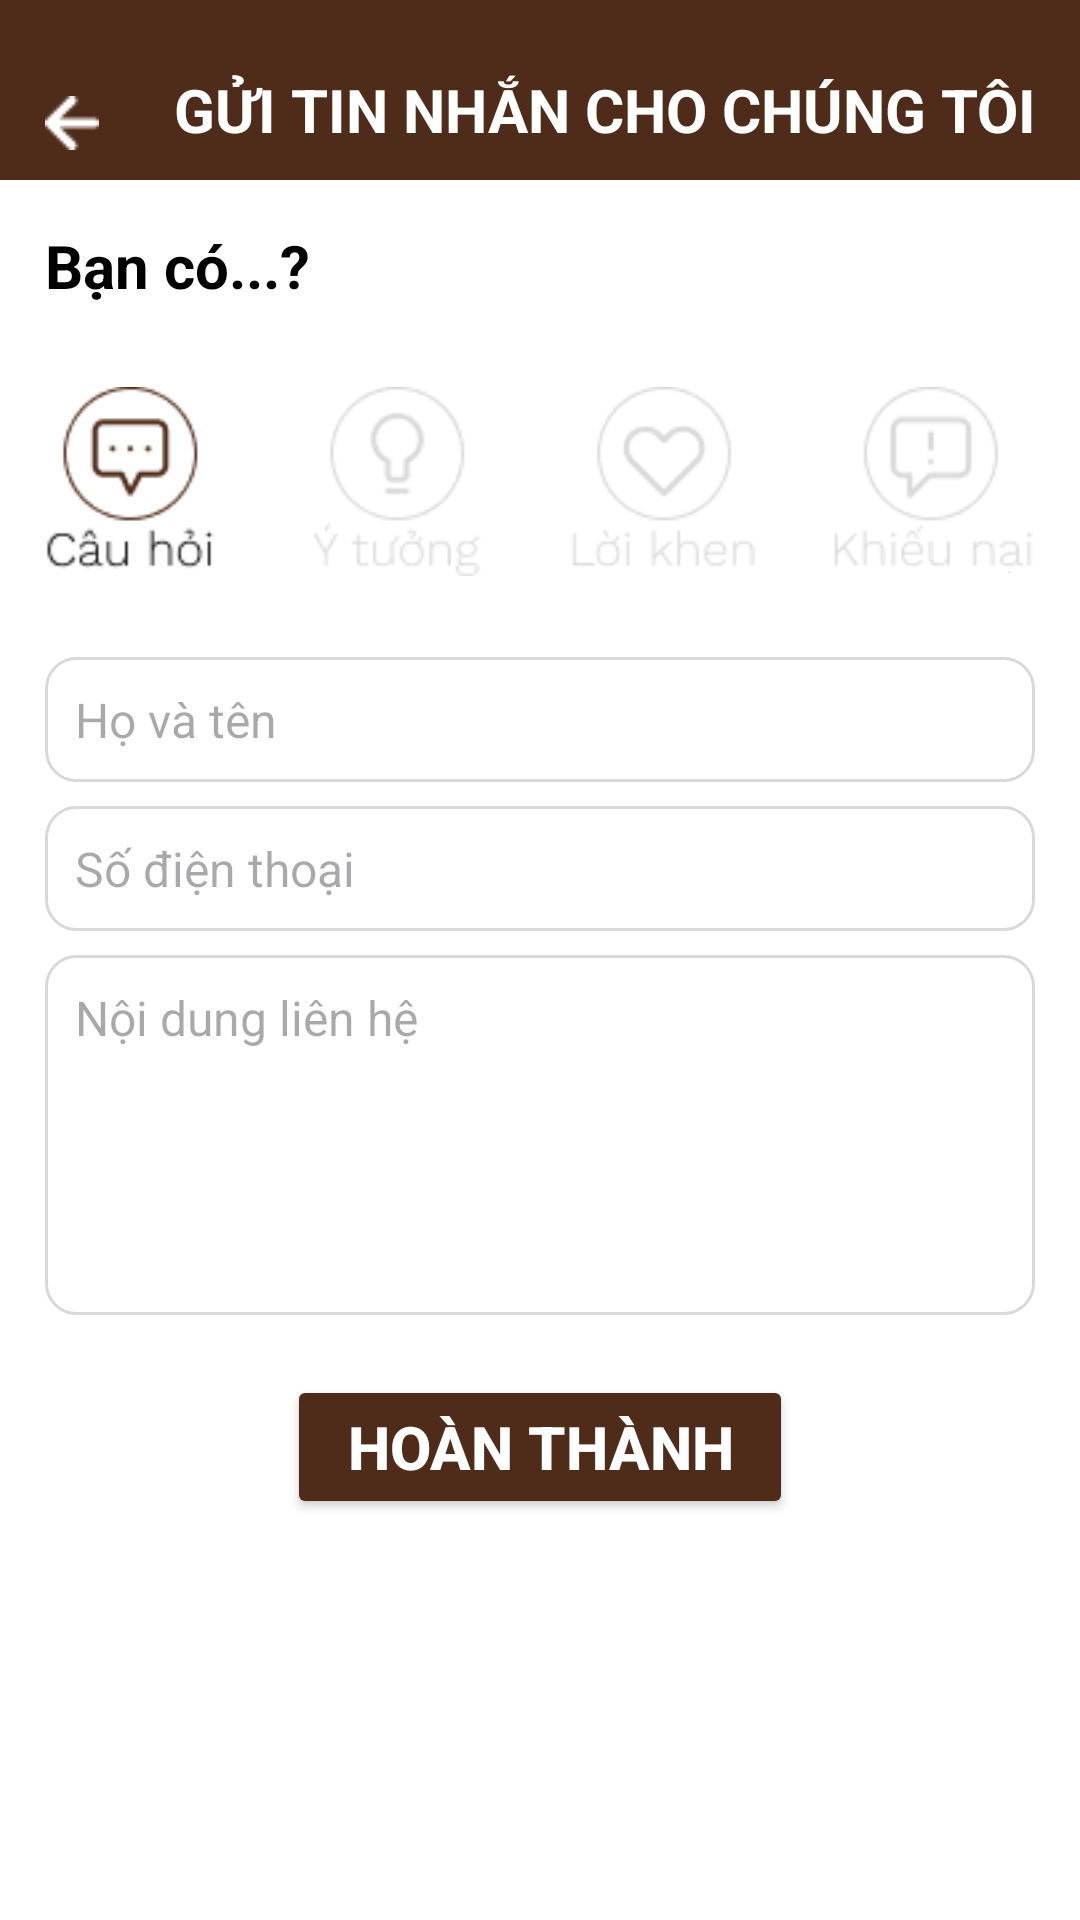

Where to tap for icons on this 1080 x 1920 app screen, as (x,y):
policy back: (72,123)
